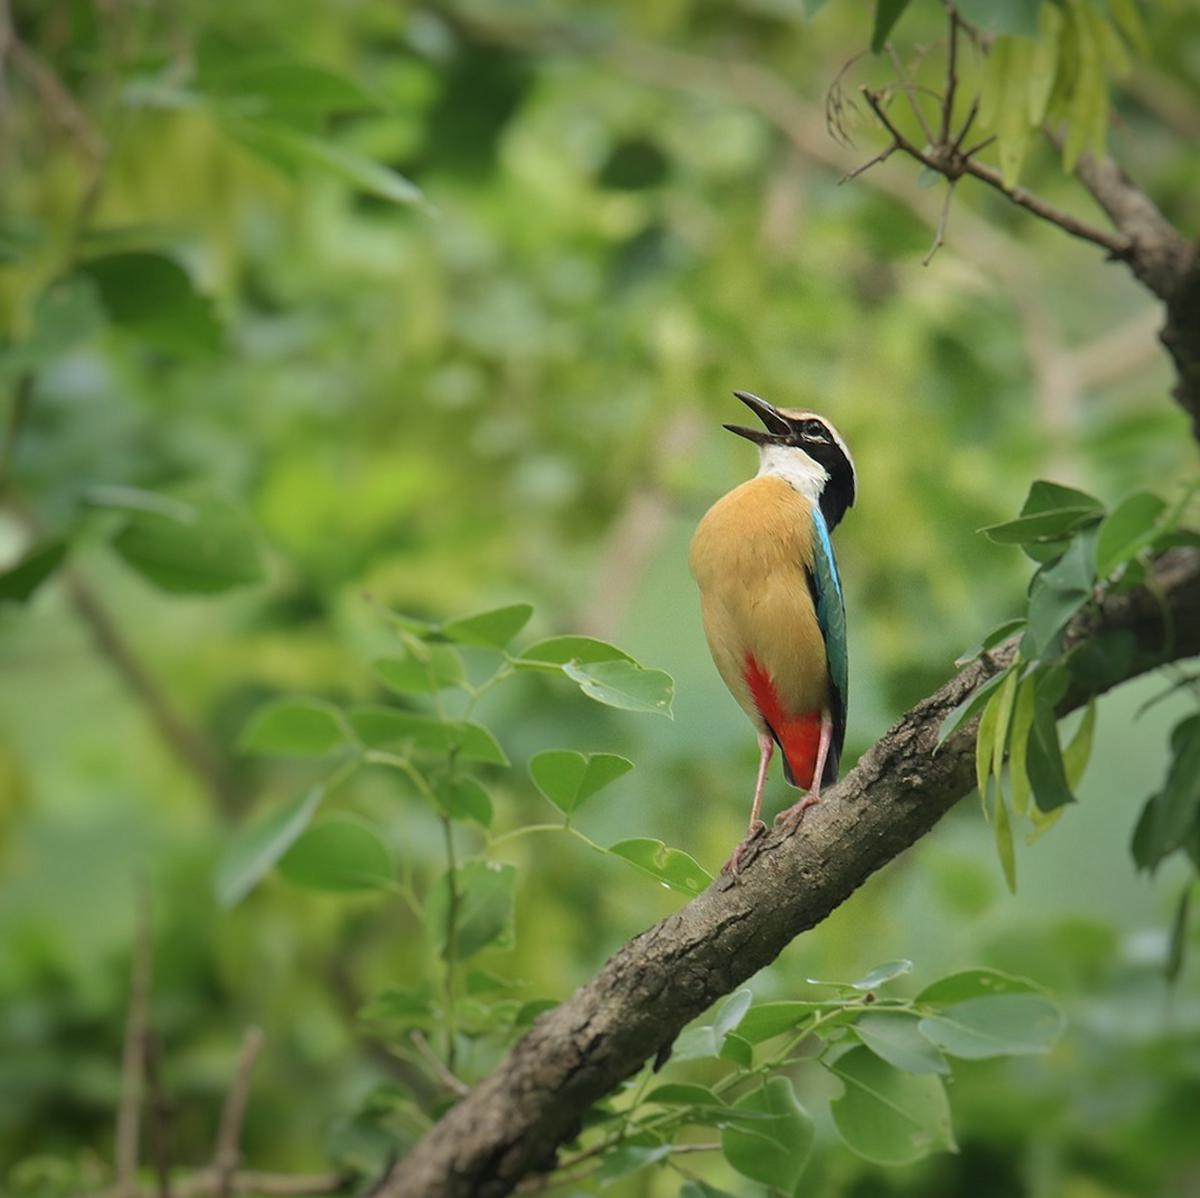pitta: (636, 329, 936, 850)
